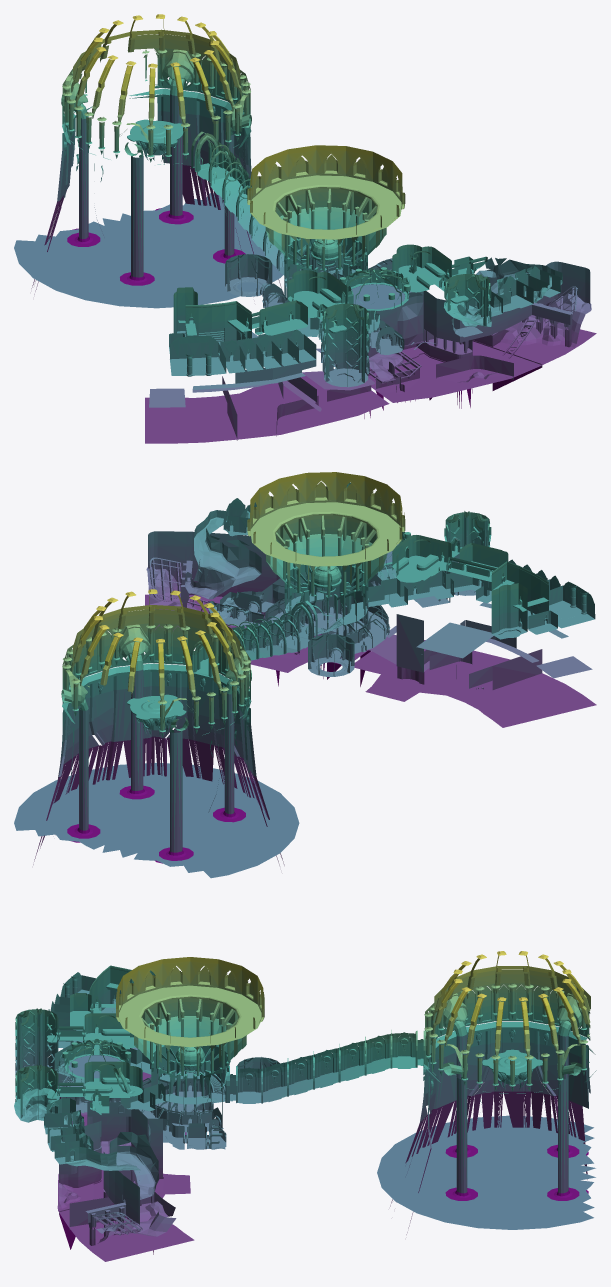
The model's file is 600_Castle.glb.
3 renders of one model, top to bottom at view 1: azimuth 30°, elevation 25°; view 2: azimuth 150°, elevation 25°; view 3: azimuth 270°, elevation 25°, orthographic. The views are drawn at different scales.
Visible parts, largest first — view 1: walls, floors, water; view 2: walls, floors, water; view 3: walls, floors, water.
Part boxes in pixels (x1=…): walls: x1=31, y1=19, x2=590, y2=440; floors: x1=61, y1=14, x2=596, y2=443; water: x1=14, y1=193, x2=405, y2=309; walls: x1=33, y1=472, x2=595, y2=865; floors: x1=59, y1=497, x2=596, y2=863; water: x1=14, y1=544, x2=398, y2=878; walls: x1=15, y1=955, x2=595, y2=1254; floors: x1=14, y1=951, x2=596, y2=1261; water: x1=68, y1=1055, x2=595, y2=1229.
Size of the model in its own units: 392 by 215 by 461.
